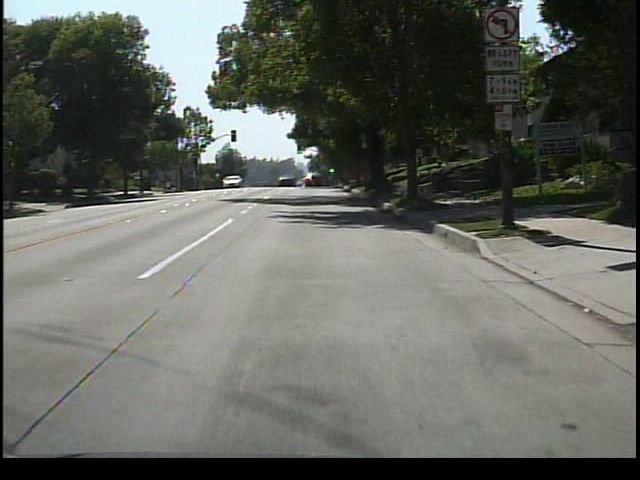person: (433, 155, 454, 193)
